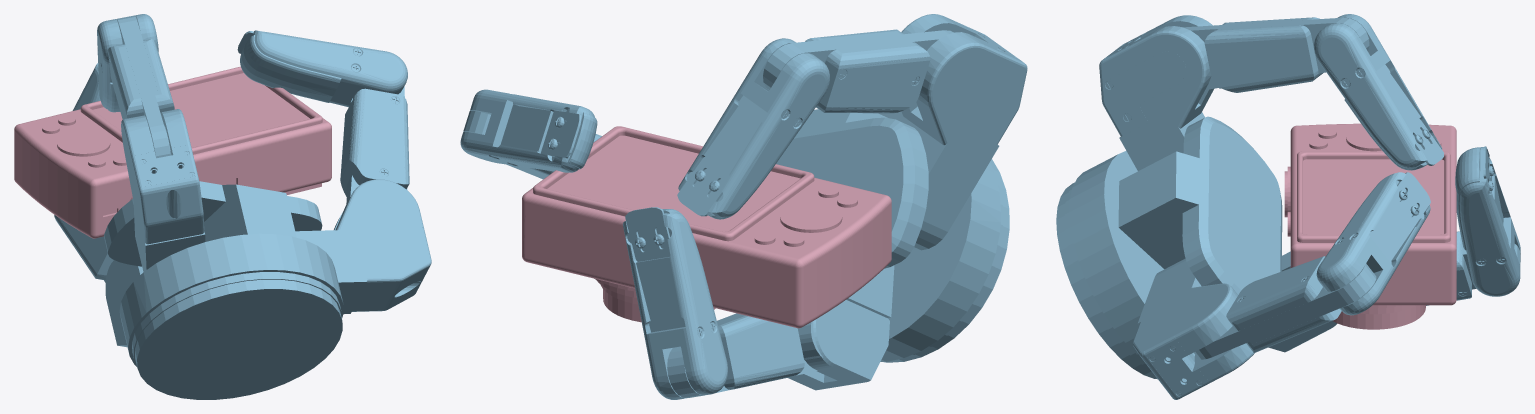
3 renders of one model, left to right at view 1: azimuth 30°, elevation 25°; view 2: azimuth 150°, elevation 25°; view 3: azimuth 270°, elevation 25°, orthographic. The views are drawn at different scales.
Visible parts, largest first — view 1: world; view 2: world; view 3: world.
Part boxes in pixels (x1=…): world: x1=14, y1=14, x2=431, y2=399; world: x1=460, y1=14, x2=1027, y2=399; world: x1=1056, y1=14, x2=1520, y2=399.
Bounding box in the file's own units: 0.1725 × 0.1465 × 0.1811.
